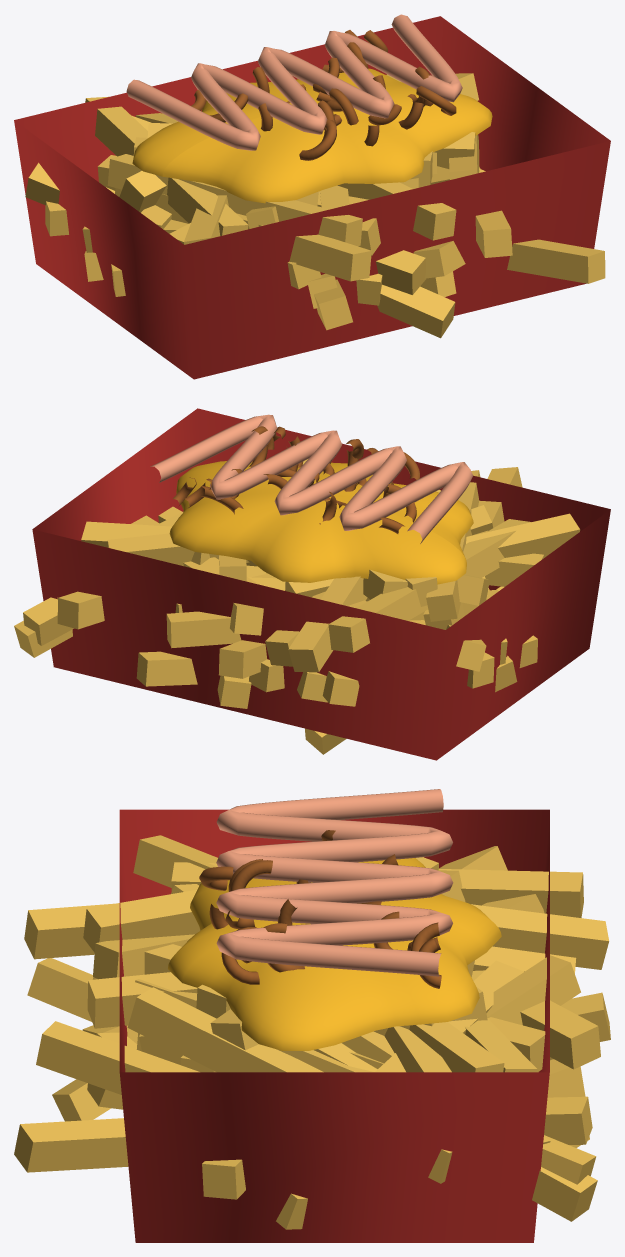
File: animal-fries.glb
3 renders of one model, top to bottom at view 1: azimuth 30°, elevation 25°; view 2: azimuth 150°, elevation 25°; view 3: azimuth 270°, elevation 25°, orthographic. The views are drawn at different scales.
Visible parts, largest first — view 1: Tray, Fries, Melted_Cheese, Spread, Grilled_Onions; view 2: Tray, Fries, Melted_Cheese, Spread, Grilled_Onions; view 3: Fries, Tray, Spread, Melted_Cheese, Grilled_Onions.
Boxes of the visible parts, x1,y1,x2,y2 form: Tray: [14, 16, 610, 379]; Fries: [25, 73, 605, 338]; Melted_Cheese: [132, 68, 492, 203]; Spread: [126, 14, 462, 150]; Grilled_Onions: [191, 30, 456, 160]; Tray: [32, 408, 610, 760]; Fries: [14, 459, 580, 754]; Melted_Cheese: [169, 461, 473, 584]; Spread: [150, 414, 472, 543]; Grilled_Onions: [173, 426, 419, 533]; Fries: [14, 835, 610, 1229]; Tray: [119, 809, 549, 1242]; Spread: [216, 789, 453, 976]; Melted_Cheese: [168, 858, 501, 1050]; Grilled_Onions: [199, 830, 441, 988].
Size of the model in its own units: 0.1472 by 0.074 by 0.1349.
